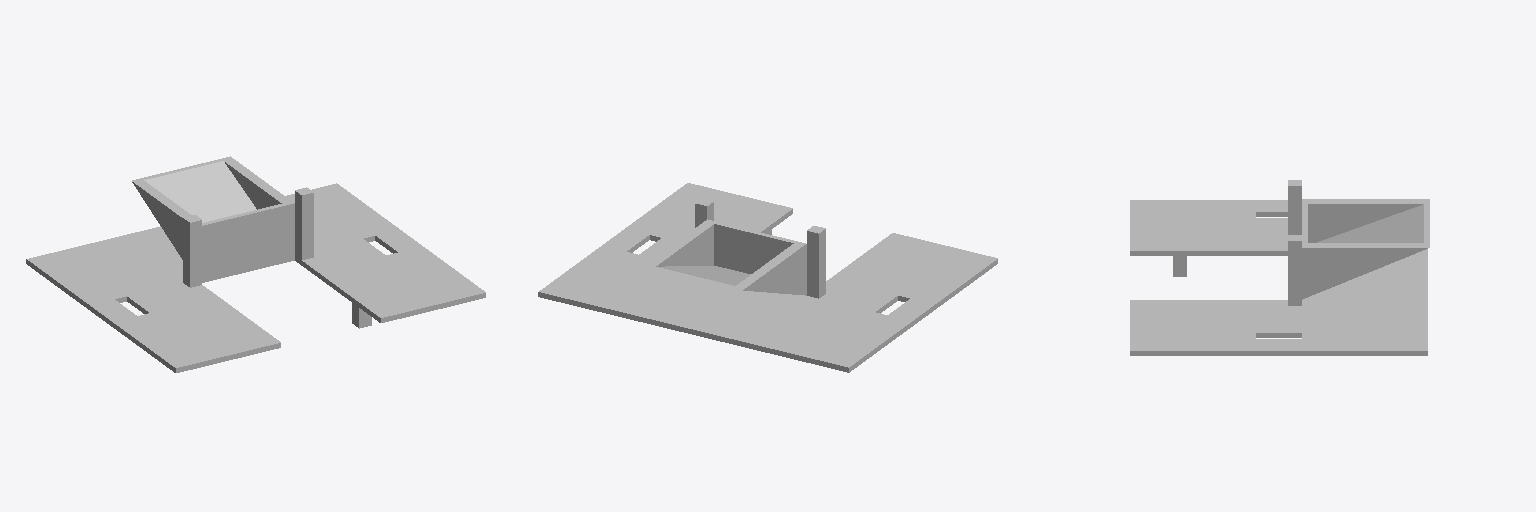
Rendered from gral f.obj.
The picture shows the model from 3 angles: view 1: azimuth 30°, elevation 25°; view 2: azimuth 150°, elevation 25°; view 3: azimuth 270°, elevation 25°; orthographic projection.
Bounding box in the file's own units: 125 × 35 × 105.